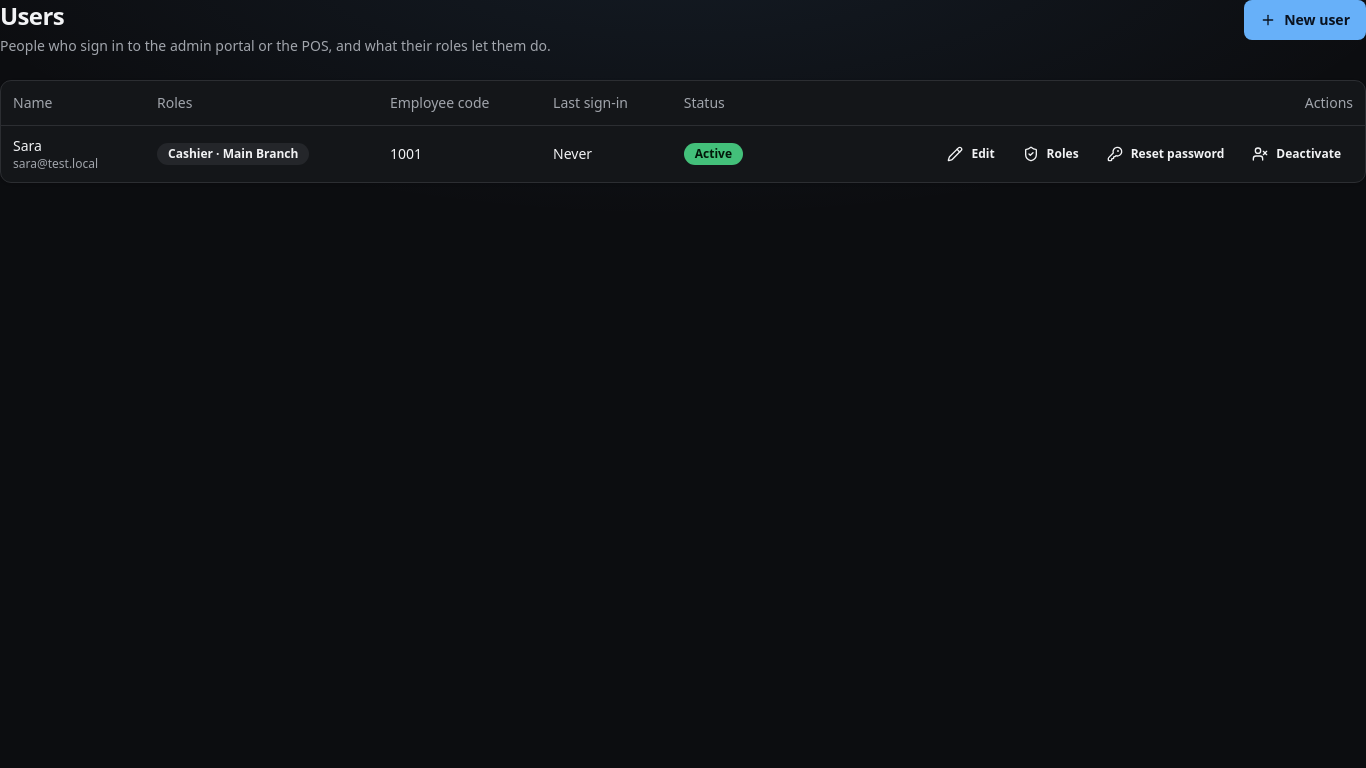
Test: users page › shows why a deactivation was refused
The image size is (1366, 768).
Click the button "Deactivate".
click(1297, 154)  # box x1=1240 y1=138 x2=1353 y2=170
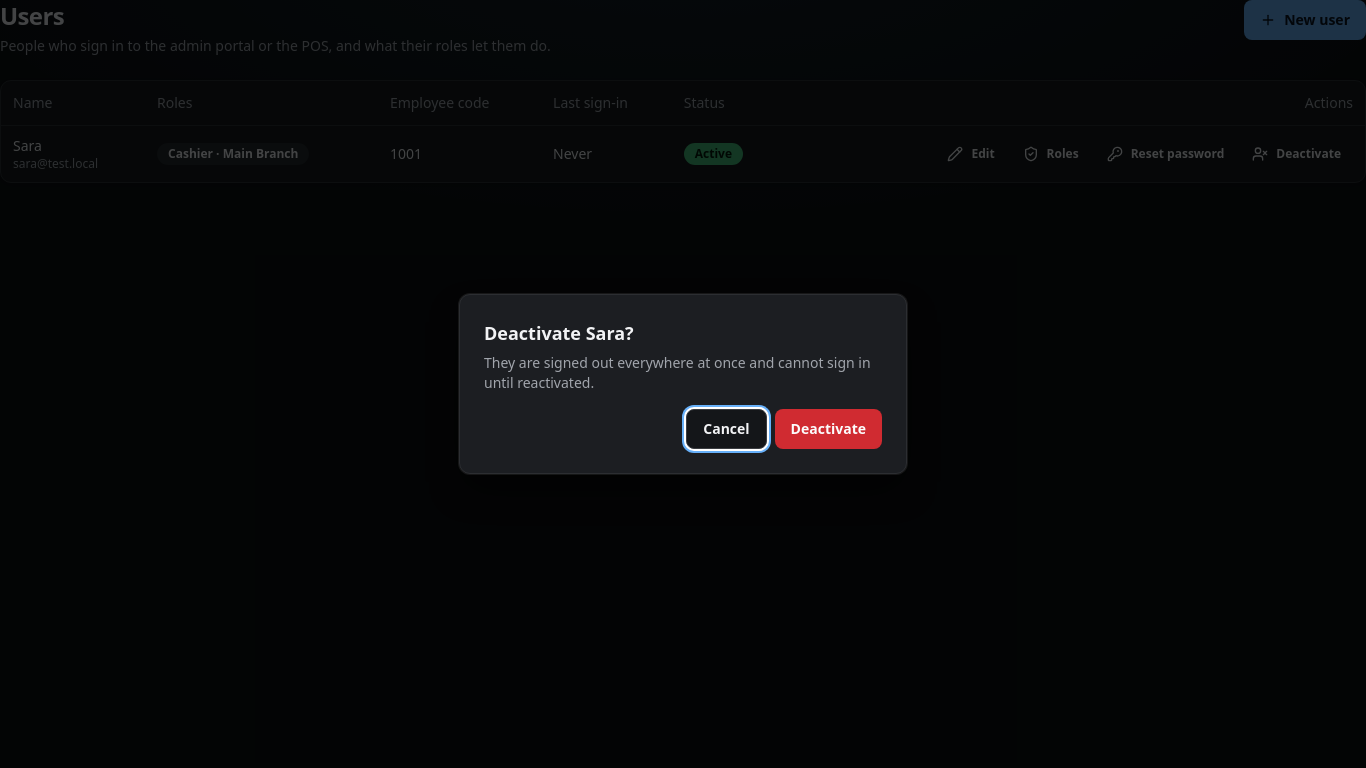
Click the button "Deactivate".
click(828, 429)  # box x1=775 y1=409 x2=882 y2=449
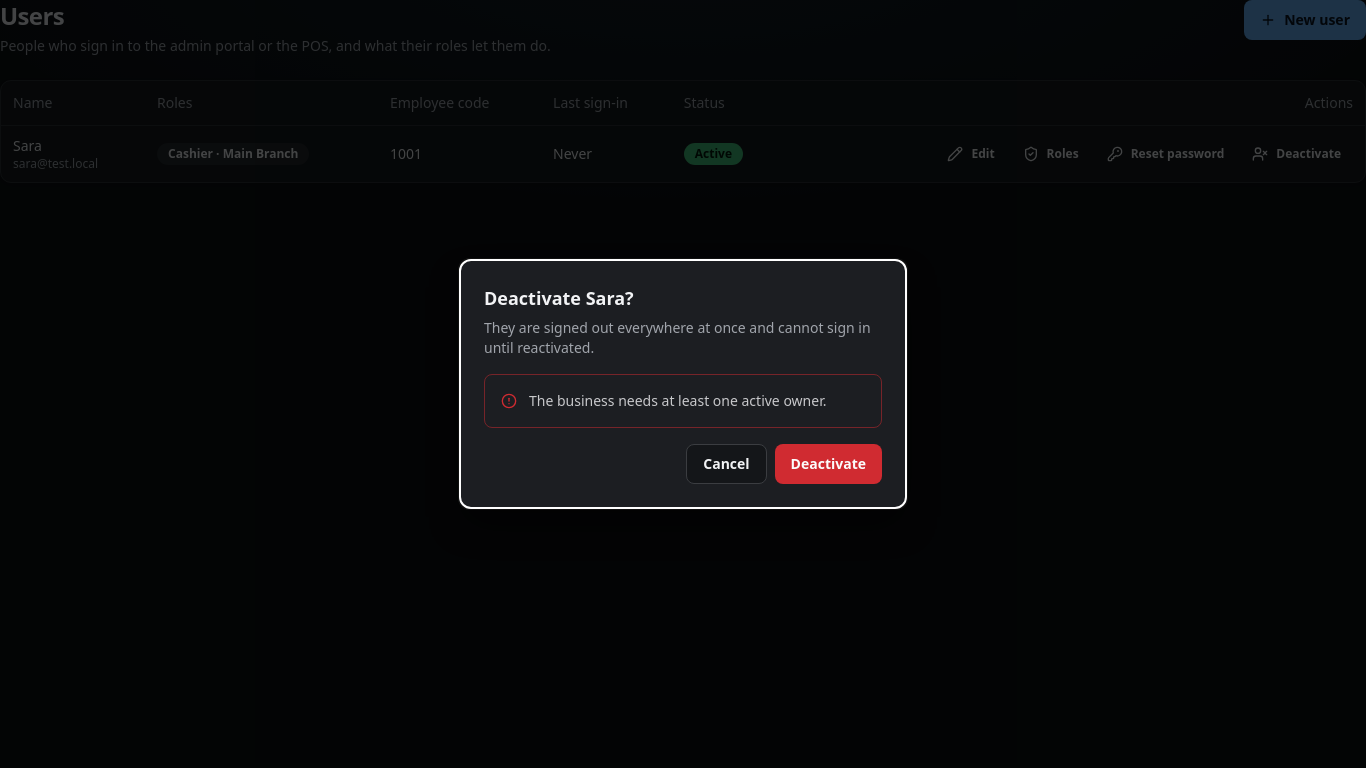
Now the message reads "The business needs at least one active owner.", box x1=529 y1=391 x2=826 y2=410
